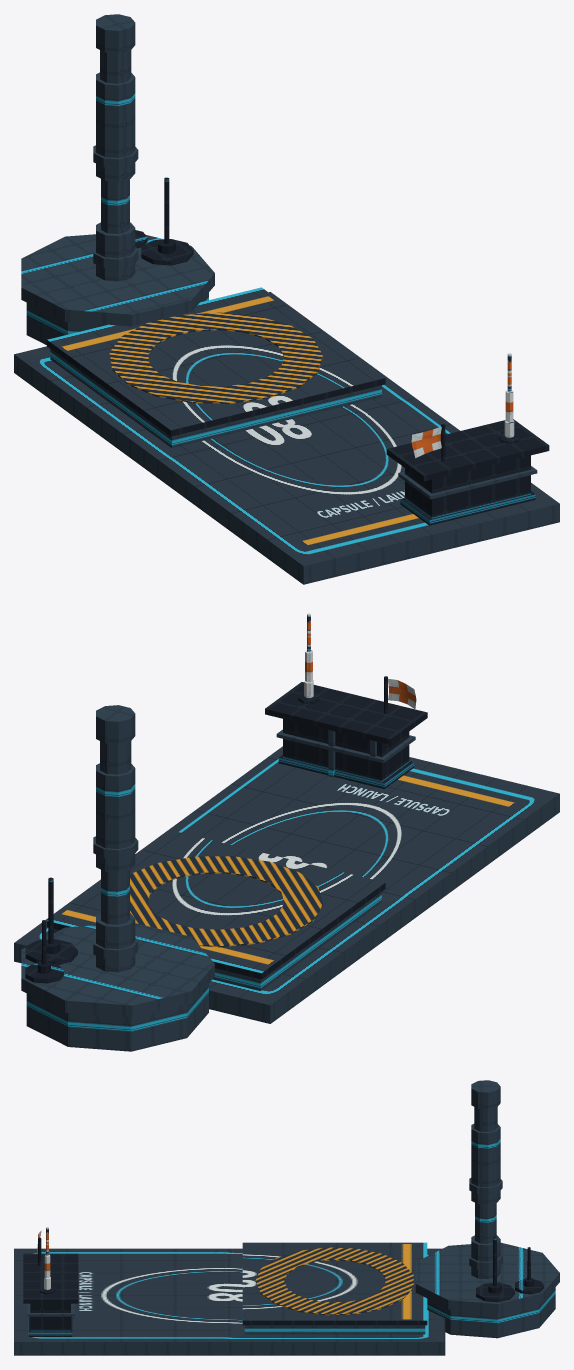
File: Plataforma.obj
3 views of the same model, one above another, from view 1: azimuth 30°, elevation 25°; view 2: azimuth 150°, elevation 25°; view 3: azimuth 270°, elevation 25° (orthographic). The views are drawn at different scales.
Visible parts, largest first — view 1: ground_Cube.004, mount_Cylinder.001, control_Cube.008, det6_Torus.001, det4_Cylinder.002, flag_Cylinder.004, transmitter_mast_Cylinder.005; view 2: ground_Cube.004, mount_Cylinder.001, control_Cube.008, det6_Torus.001, det4_Cylinder.002, det5_Cylinder.003, flag_Cylinder.004, transmitter_mast_Cylinder.005; view 3: ground_Cube.004, mount_Cylinder.001, det6_Torus.001, control_Cube.008, det4_Cylinder.002, det5_Cylinder.003, transmitter_mast_Cylinder.005.
Part boxes in pixels (x1,y1,x2,y2): ground_Cube.004: (14, 287, 559, 584); mount_Cylinder.001: (21, 14, 214, 345); control_Cube.008: (386, 419, 549, 525); det6_Torus.001: (109, 312, 322, 403); det4_Cylinder.002: (141, 177, 193, 265); flag_Cylinder.004: (411, 424, 445, 461); transmitter_mast_Cylinder.005: (498, 353, 520, 443); ground_Cube.004: (14, 746, 559, 1023); mount_Cylinder.001: (21, 705, 214, 1051); control_Cube.008: (265, 682, 427, 788); det6_Torus.001: (130, 856, 323, 947); det4_Cylinder.002: (25, 877, 77, 964); det5_Cylinder.003: (25, 920, 63, 983); flag_Cylinder.004: (384, 676, 416, 713); transmitter_mast_Cylinder.005: (298, 613, 319, 703); ground_Cube.004: (14, 1242, 445, 1355); mount_Cylinder.001: (415, 1080, 559, 1338); det6_Torus.001: (255, 1247, 413, 1315); control_Cube.008: (23, 1253, 78, 1336); det4_Cylinder.002: (476, 1237, 514, 1302); det5_Cylinder.003: (515, 1247, 543, 1294); transmitter_mast_Cylinder.005: (40, 1227, 55, 1294).
Bounding box in the file's own units: 14.64 × 16.32 × 36.25.
6 materials, 6 textured.
